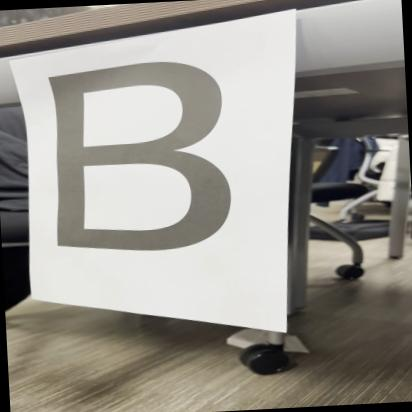seat: (27, 56, 231, 262)
